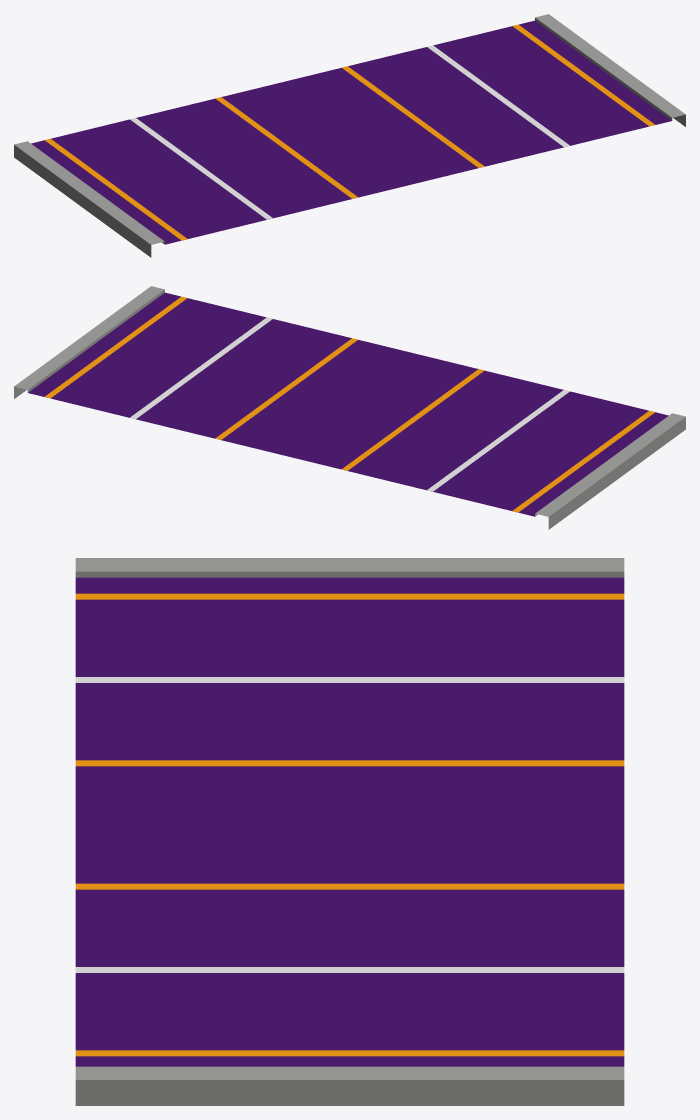
The model's file is Road_C_2L_1_2.fbx.
3 renders of one model, top to bottom at view 1: azimuth 30°, elevation 25°; view 2: azimuth 150°, elevation 25°; view 3: azimuth 270°, elevation 25°, orthographic. The views are drawn at different scales.
Visible parts, largest first — view 1: Road_C_2L_1_2; view 2: Road_C_2L_1_2; view 3: Road_C_2L_1_2.
Part boxes in pixels (x1,y1,x2,y2): Road_C_2L_1_2: (14, 14, 685, 257); Road_C_2L_1_2: (14, 286, 685, 529); Road_C_2L_1_2: (75, 558, 624, 1105).
Bounding box in the file's own units: 1800 × 41.48 × 800.
